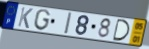8: (74, 14, 90, 37), (97, 18, 112, 40)
D: (112, 18, 131, 42)
G: (33, 8, 52, 32)
I: (64, 12, 73, 36)
K: (17, 6, 34, 30)
